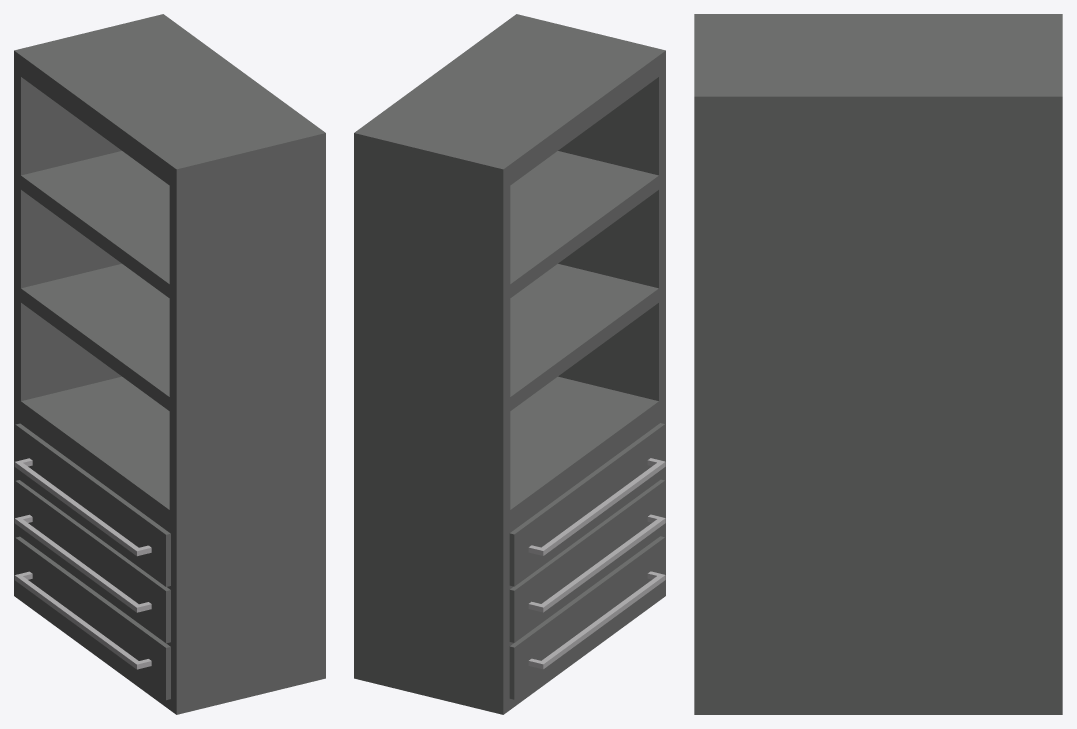
Rendered from SM_Cupboard_12.glb.
3 renders of one model, left to right at view 1: azimuth 30°, elevation 25°; view 2: azimuth 150°, elevation 25°; view 3: azimuth 270°, elevation 25°, orthographic. The views are drawn at different scales.
Visible parts, largest first — view 1: SM_Cupboard_12; view 2: SM_Cupboard_12; view 3: SM_Cupboard_12.
Part boxes in pixels (x1,y1,x2,y2): SM_Cupboard_12: (14, 14, 325, 714); SM_Cupboard_12: (354, 14, 665, 714); SM_Cupboard_12: (694, 14, 1062, 714).
Size of the model in its own units: 0.8078 by 2.49 by 1.34.
1 material, 1 textured.
